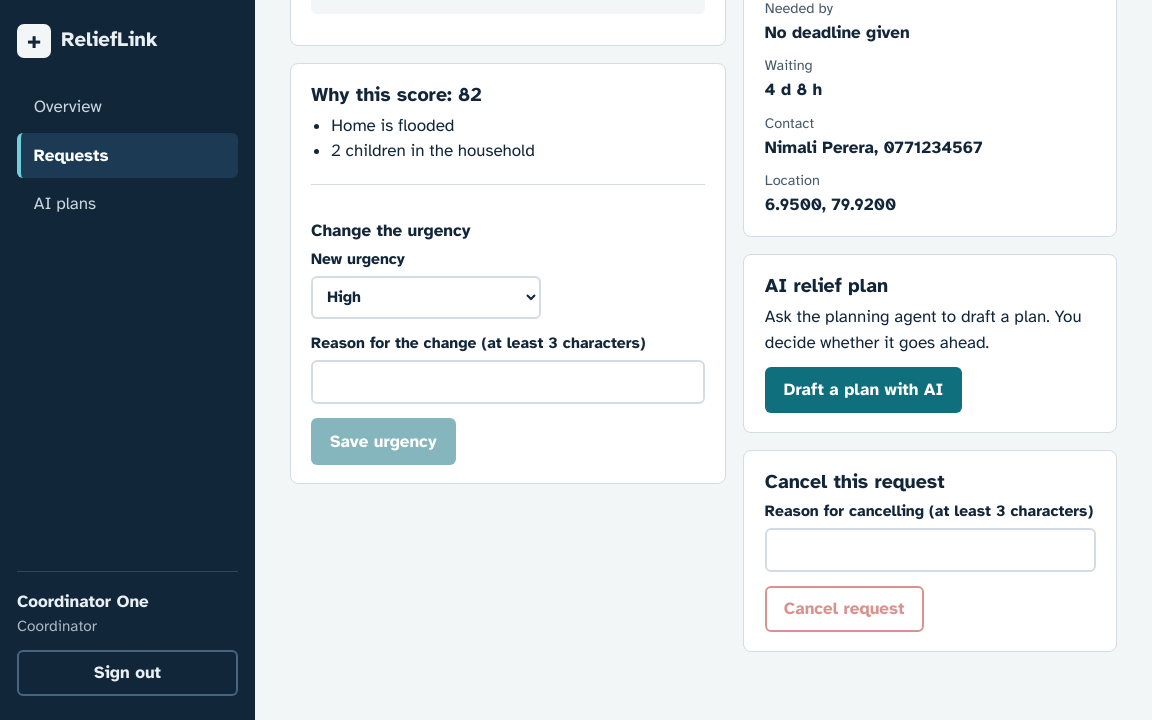
Request detail › keeps the override button disabled until the reason has 3 characters
(page scrolled)
Expected: the button "Save urgency" is disabled, [311,418,456,465]
Type "ab" into the field labelled "Reason for the change (at least 3 characters)". click: {"x": 508, "y": 382}
box: [311,360,705,404]
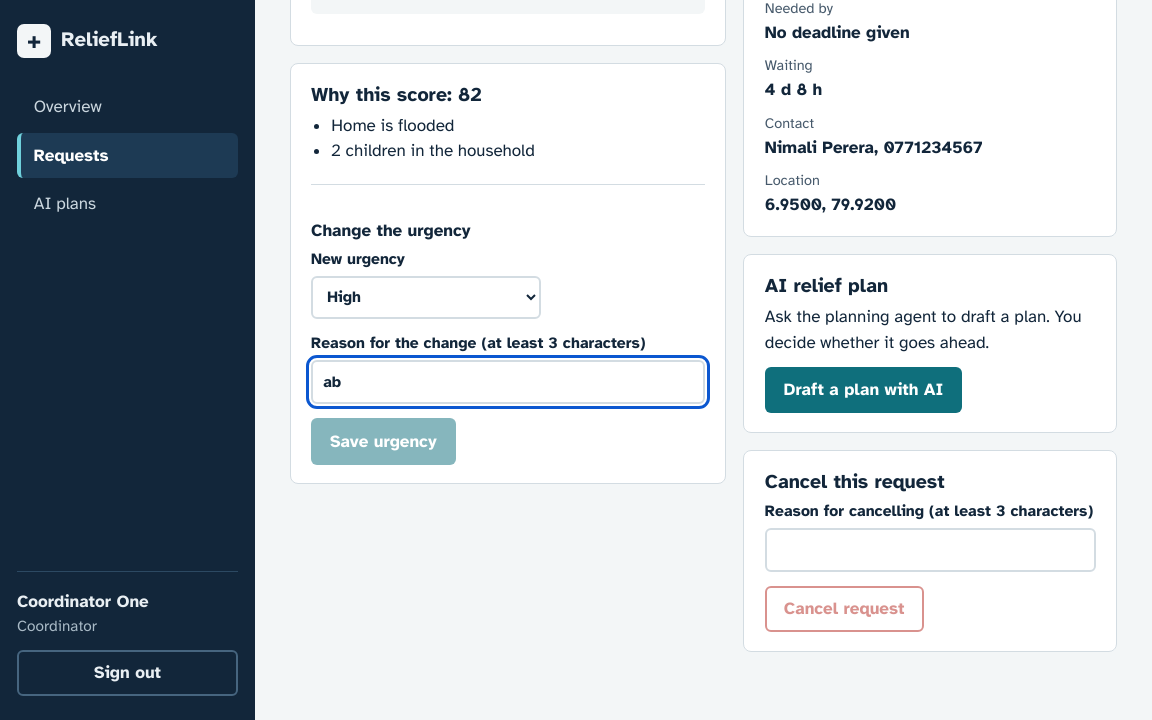
Expected: the button "Save urgency" is disabled, [311,418,456,465]
Type "c" into the field labelled "Reason for the change (at least 3 characters)". click: {"x": 508, "y": 382}
box: [311,360,705,404]
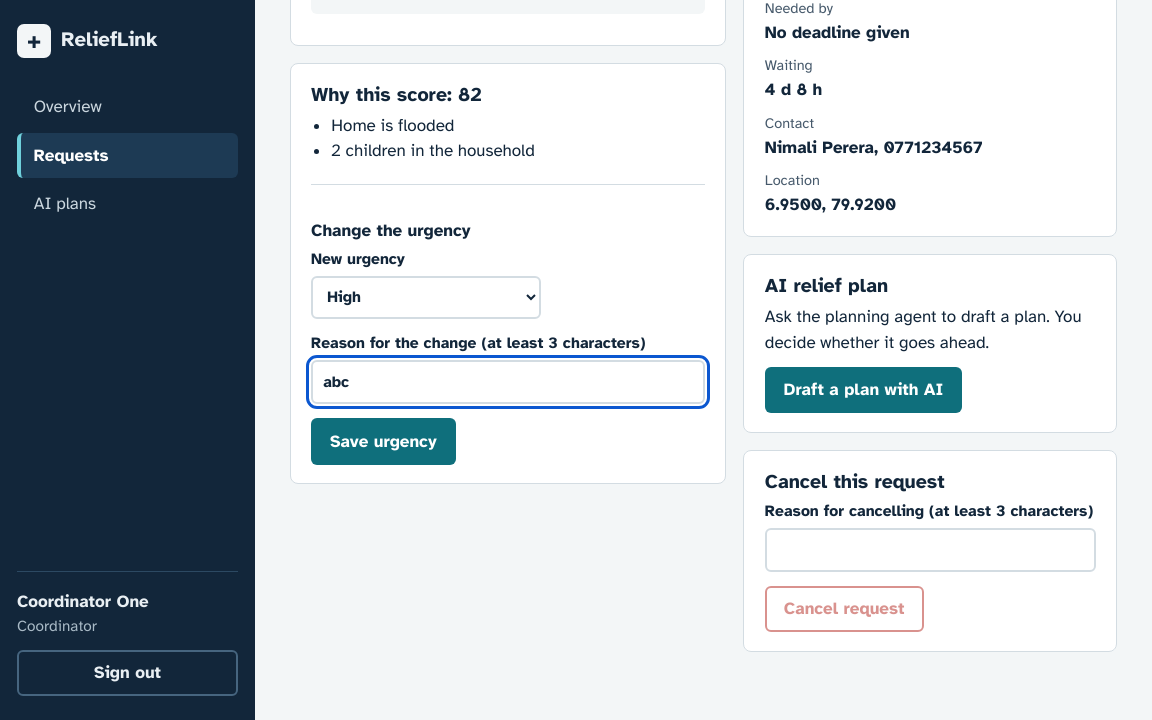
Now the button "Save urgency" is enabled, box [311,418,456,465]
